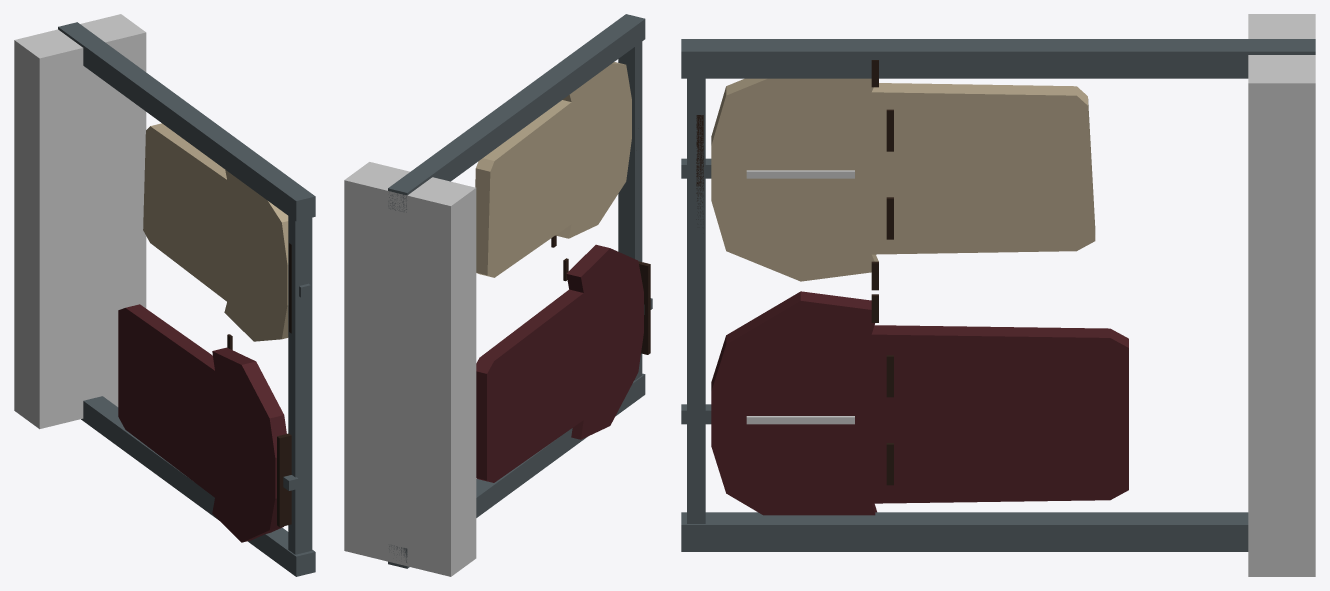
File: SM_BSW_StockWing_Short_B.obj
3 renders of one model, left to right at view 1: azimuth 30°, elevation 25°; view 2: azimuth 150°, elevation 25°; view 3: azimuth 270°, elevation 25°, orthographic. The views are drawn at different scales.
Visible parts, largest first — view 1: SM_BSW_StockWing_Short_B; view 2: SM_BSW_StockWing_Short_B; view 3: SM_BSW_StockWing_Short_B.
Part boxes in pixels (<box>): SM_BSW_StockWing_Short_B: <box>14,14,315,576</box>; SM_BSW_StockWing_Short_B: <box>344,14,652,576</box>; SM_BSW_StockWing_Short_B: <box>681,14,1315,576</box>.
Size of the model in its own units: 44 by 148 by 170.
